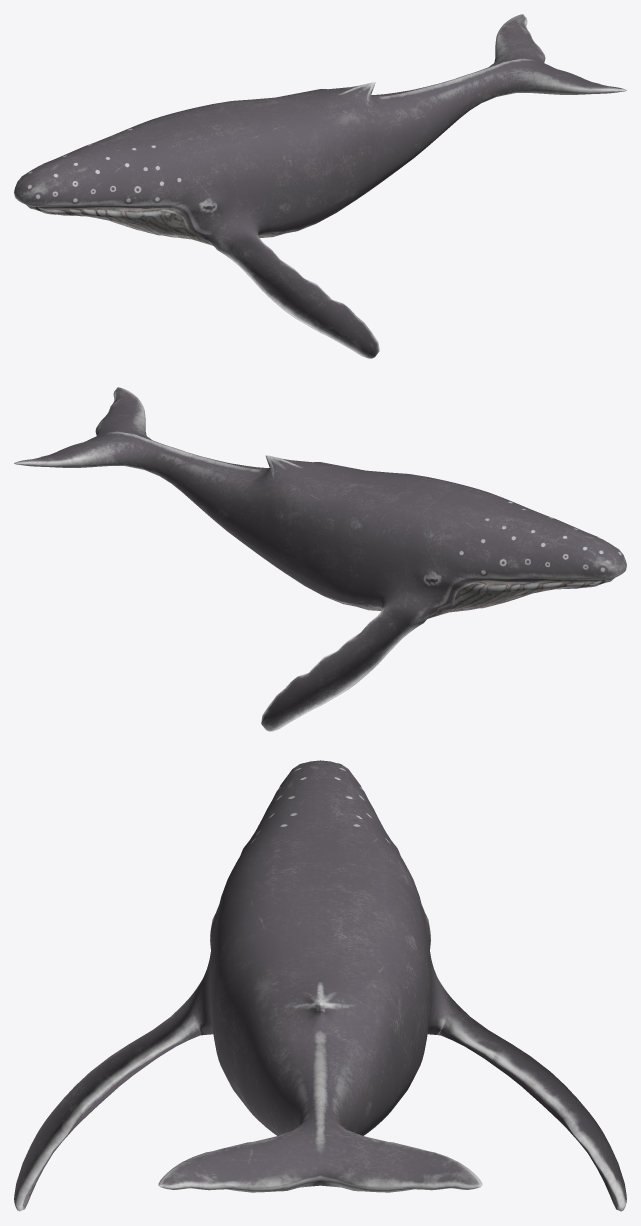
Rendered from whale.glb.
3 views of the same model, one above another, from view 1: azimuth 30°, elevation 25°; view 2: azimuth 150°, elevation 25°; view 3: azimuth 270°, elevation 25° (orthographic). The views are drawn at different scales.
Parts seen in each view (by area): view 1: body; view 2: body; view 3: body.
Boxes of the visible parts, left/top/right/bottom form: body: left=14, top=14, right=626, bottom=358; body: left=14, top=387, right=626, bottom=731; body: left=14, top=760, right=626, bottom=1211.
Bounding box in the file's own units: 1 × 0.317 × 0.611.
Materials: 1 (1 with a texture image).
